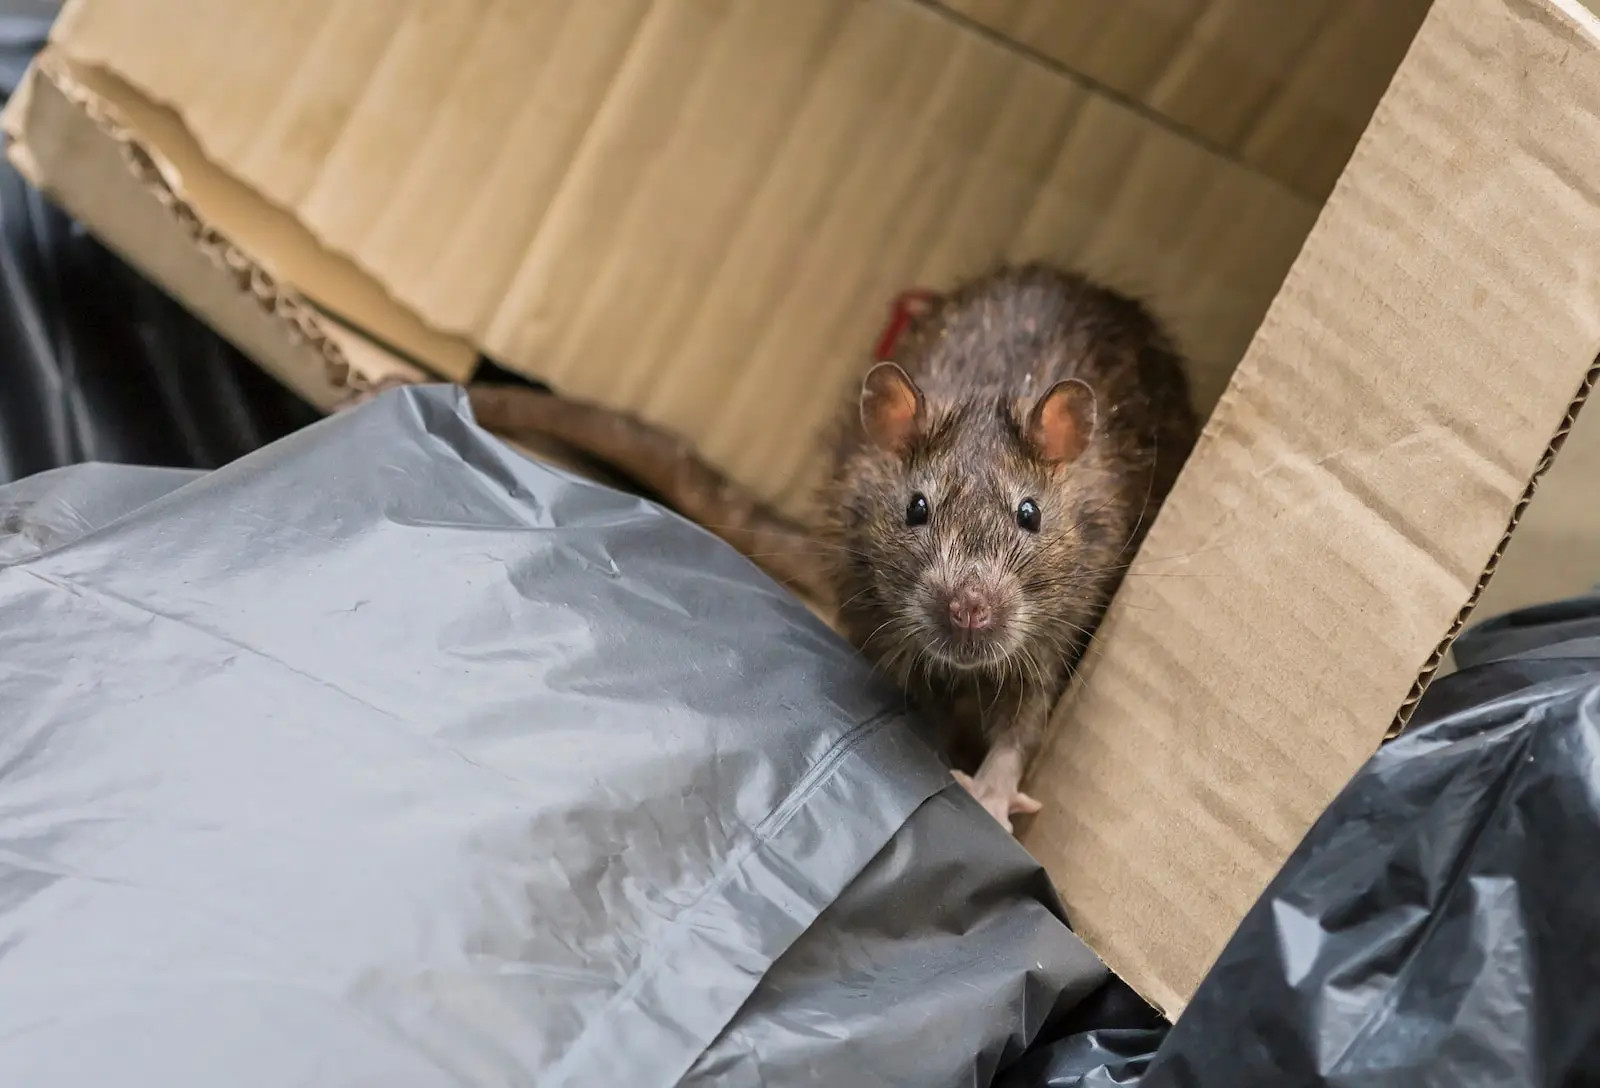rat: (815, 250, 1202, 837)
